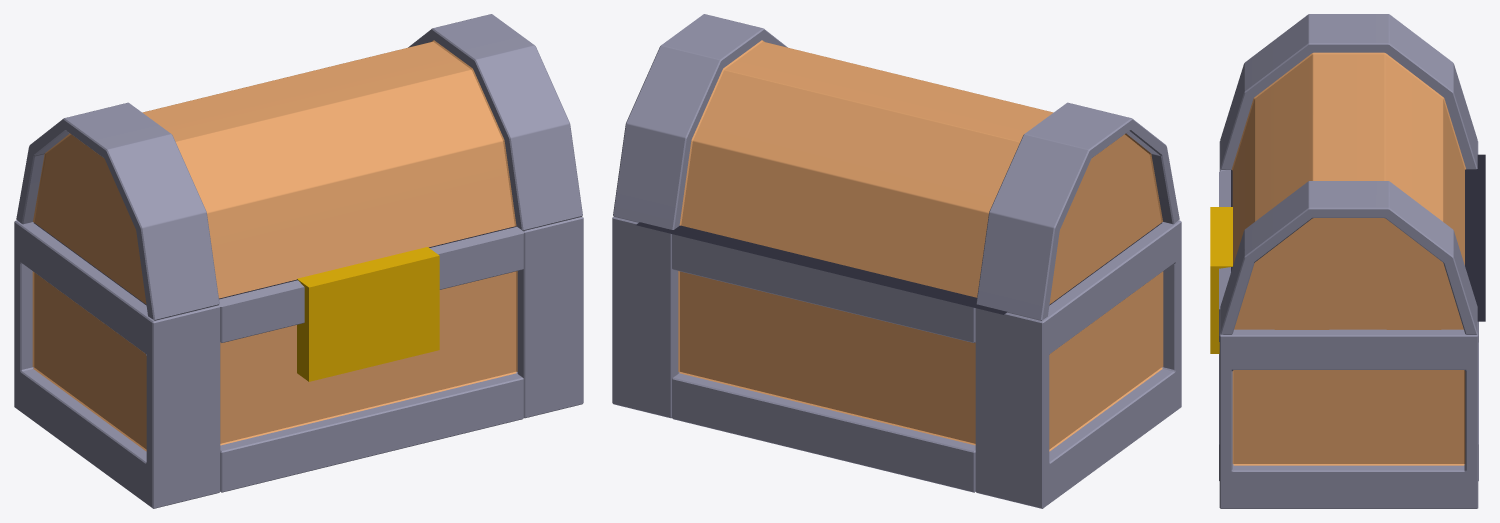
The model's file is Chest_Idle.fbx.
The picture shows the model from 3 angles, left to right: view 1: azimuth 30°, elevation 25°; view 2: azimuth 150°, elevation 25°; view 3: azimuth 270°, elevation 25°; orthographic projection. The views are drawn at different scales.
Visible parts, largest first — view 1: polySurface4, polySurface1, pCube3; view 2: polySurface1, polySurface4; view 3: polySurface4, polySurface1, pCube3.
Boxes of the visible parts, left/top/right/bottom form: polySurface4: left=16, top=14, right=582, bottom=320; polySurface1: left=14, top=217, right=583, bottom=508; pCube3: left=297, top=247, right=439, bottom=381; polySurface1: left=612, top=217, right=1181, bottom=508; polySurface4: left=613, top=14, right=1179, bottom=320; polySurface4: left=1220, top=14, right=1477, bottom=334; polySurface1: left=1219, top=141, right=1485, bottom=508; pCube3: left=1210, top=207, right=1232, bottom=353.
Bounding box in the file's own units: 2.49 × 1.79 × 1.48.
